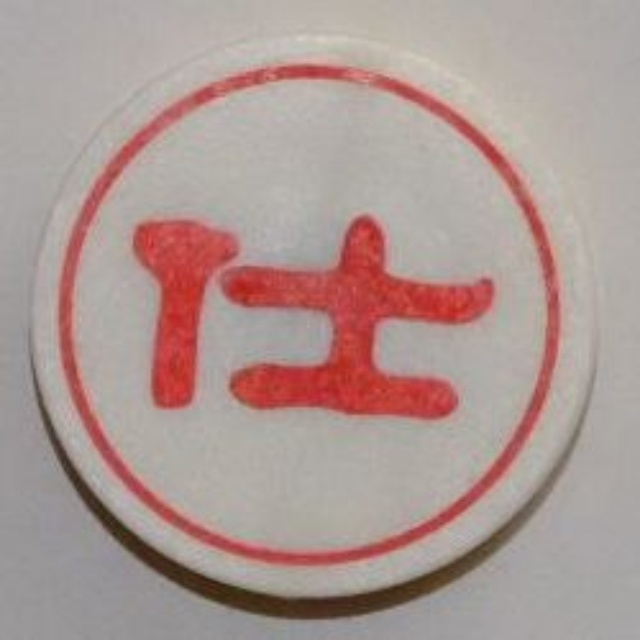red_si: (27, 20, 611, 606)
